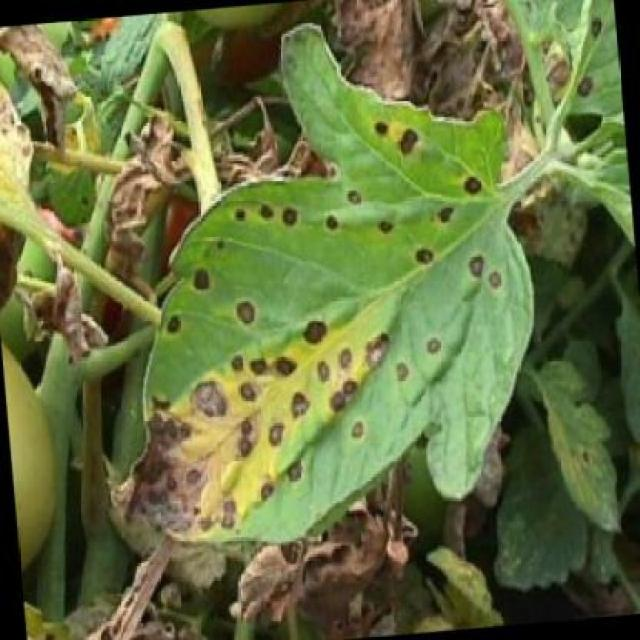Septoria leaf spot: (78, 98, 540, 554)
